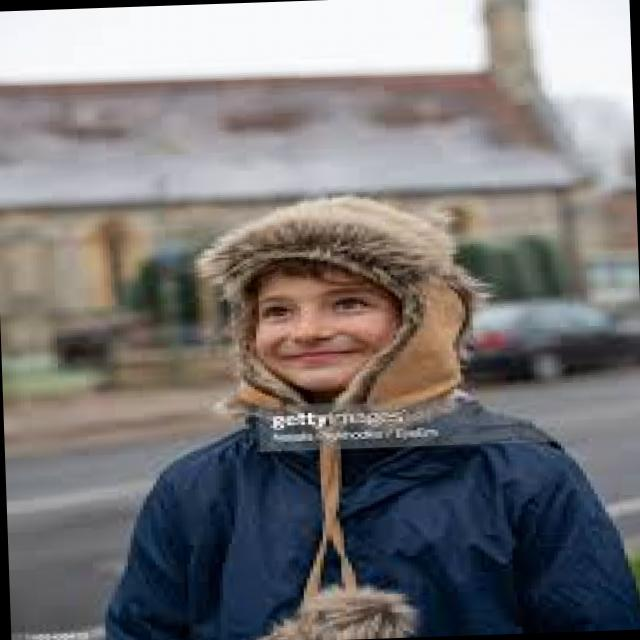Jacket: (82, 385, 640, 640)
